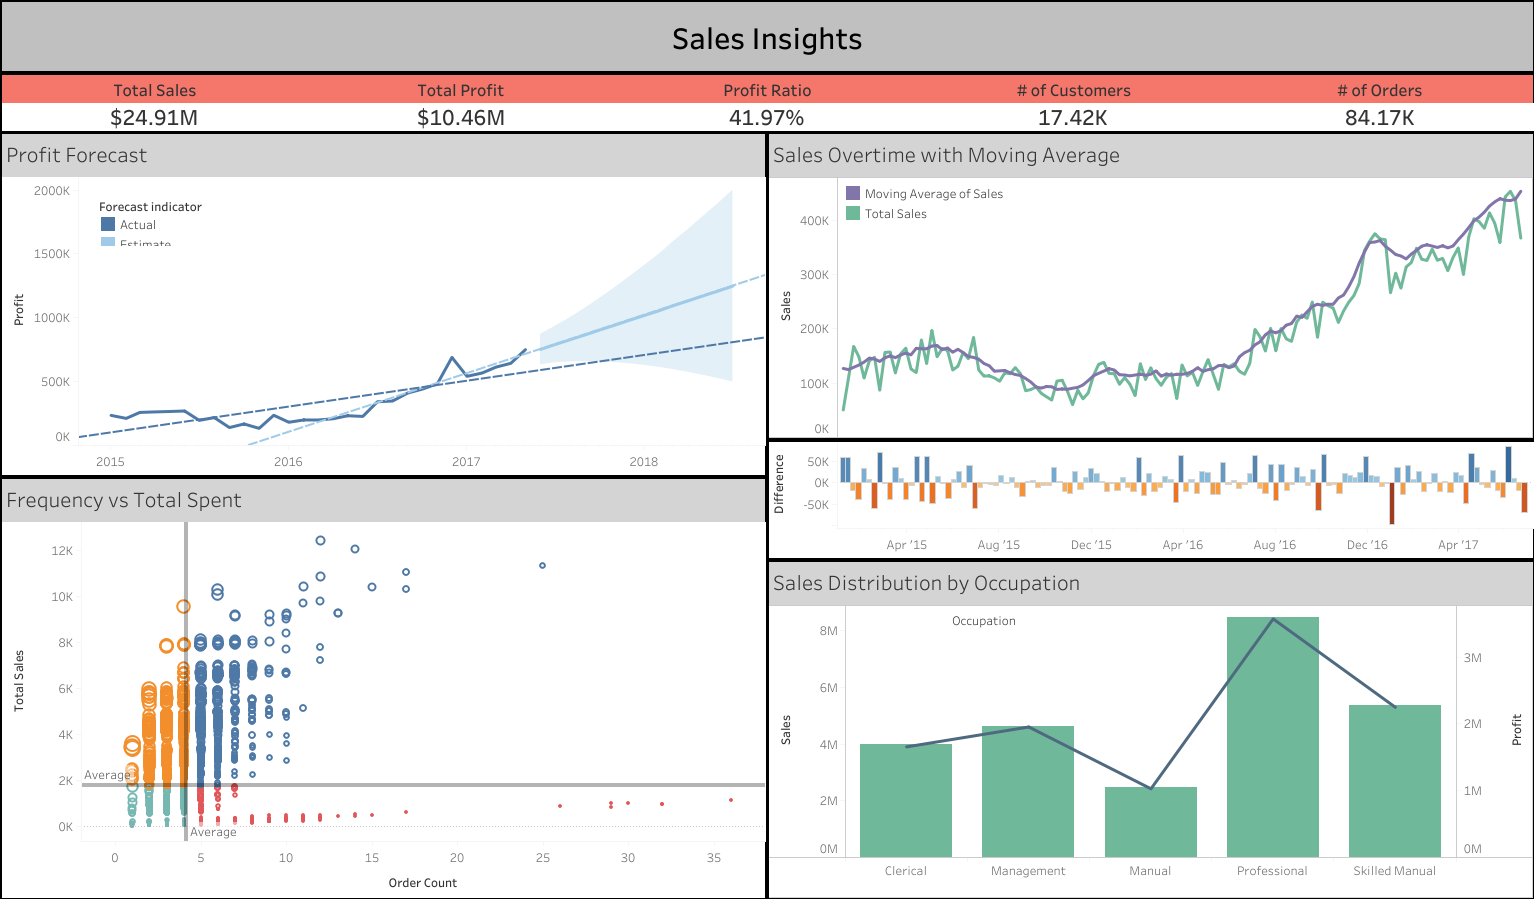

Layout of this report page (visuals, bound fields, positions):
{"tool":"tableau","page":{"name":"Executive Dashboard","canvas":[1000,1000],"units":"permille","ordinal":1},"visuals":[{"type":"text","box":[0,0,1000,80.7]},{"type":"worksheet","title":"KPIs","mark":"Automatic","box":[0,80.7,1000,65.9]},{"type":"worksheet","title":"Profit Forecast","mark":"Automatic","rows":["Calculation_4477985413521289232"],"cols":["OrderDate"],"box":[0,146.7,499.9,383.9]},{"type":"worksheet","title":"Sales Overtime with Moving Average","mark":"Automatic","rows":["Calculation_4477985414567837719"],"cols":["OrderDate"],"box":[499.9,146.7,500.1,341.8]},{"type":"legend","title":"Sales Overtime with Moving Average","param":"[federated.0p214rr1gn7r401bq3fu206zzvht].[:Measure Names]","box":[548.9,203.7,115.9,57.1]},{"type":"legend","title":"Profit Forecast","param":"[federated.0p214rr1gn7r401bq3fu206zzvht].[none:Forecast Indicator:nk]","box":[63.8,216.5,81.9,57.1]},{"type":"worksheet","title":"Difference in Sales","mark":"Bar","rows":["Calculation_4477985414567837719"],"cols":["OrderDate"],"box":[499.9,488.5,500.1,133.9]},{"type":"worksheet","title":"Frequency vs Total Spent","mark":"Automatic","rows":["Calculation_4477985413505159182"],"cols":["Calculation_4477985413504081933"],"box":[0,530.5,499.9,469.5]},{"type":"worksheet","title":"Sales by Parameters","mark":"Automatic","rows":["Calculation_4477985414567837719","Calculation_4477985413521289232"],"cols":["Calculation_4477985415683842104"],"box":[499.9,622.4,500.1,377.7]},{"type":"parameter","param":"[Parameters].[Parameter 2]","box":[619.1,679.1,93.6,26.6]}]}

Visuals, with their boxes on the dashboard's canvas, which has no fixed pixel size, in thousandths of its width and height (x1, y1, x2, y2). These are canvas units, not pixel positions in the 1534x899 screenshot, which may show the page scaled, cropped or inside an application window:
text: [0, 0, 1000, 81]
"KPIs" worksheet: [0, 81, 1000, 147]
"Profit Forecast" worksheet: [0, 147, 500, 531]
"Sales Overtime with Moving Average" worksheet: [500, 147, 1000, 488]
"Sales Overtime with Moving Average" legend: [549, 204, 665, 261]
"Profit Forecast" legend: [64, 216, 146, 274]
"Difference in Sales" worksheet (Bar marks): [500, 488, 1000, 622]
"Frequency vs Total Spent" worksheet: [0, 530, 500, 1000]
"Sales by Parameters" worksheet: [500, 622, 1000, 1000]
parameter: [619, 679, 713, 706]
